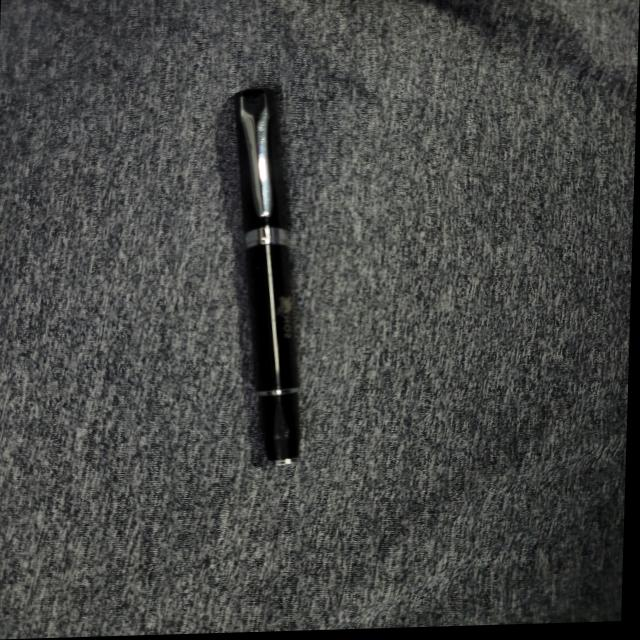caneta: (191, 82, 332, 478)
